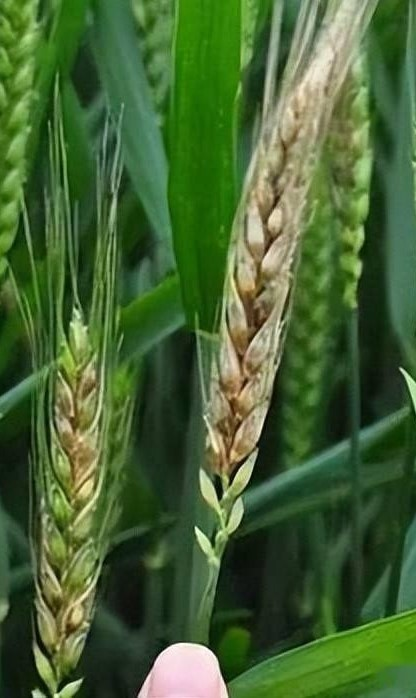Wheat scab: (192, 56, 347, 537), (35, 307, 115, 688)
